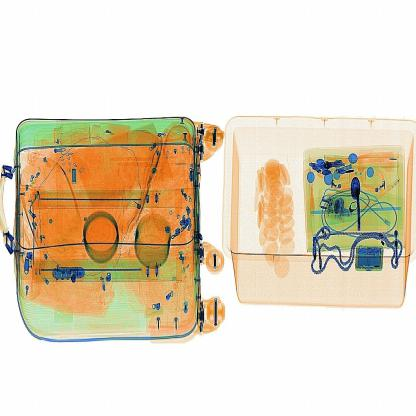knife: (350, 184, 372, 236)
